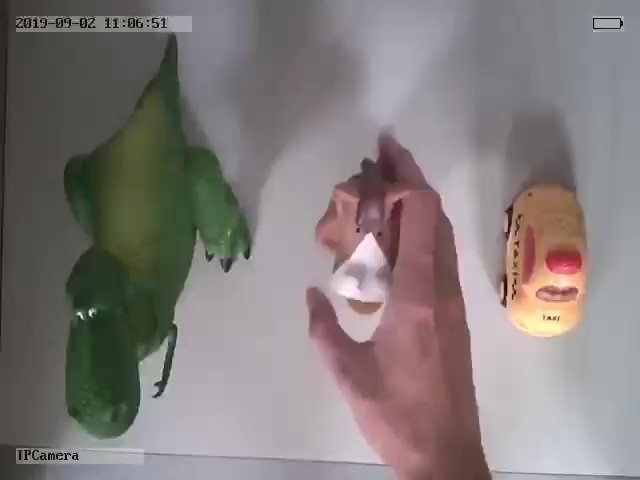car: (498, 180, 591, 338)
horse: (317, 161, 417, 312)
rex: (64, 52, 254, 439)
